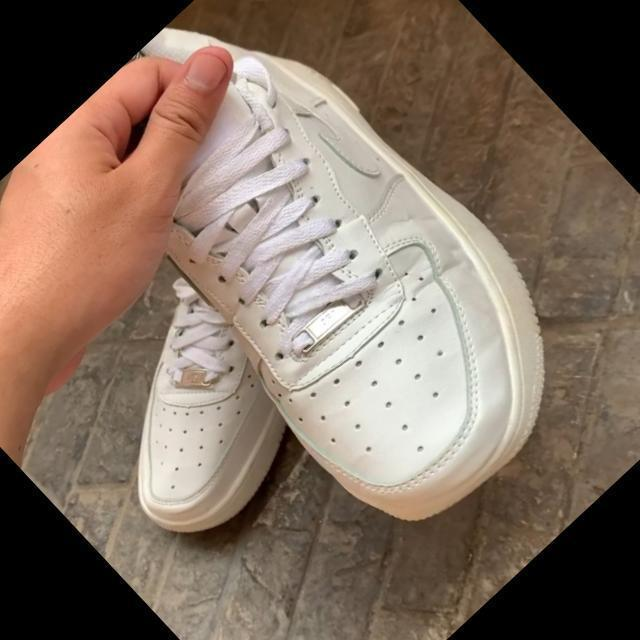nike fake air force: (31, 0, 619, 557), (39, 239, 376, 574)
